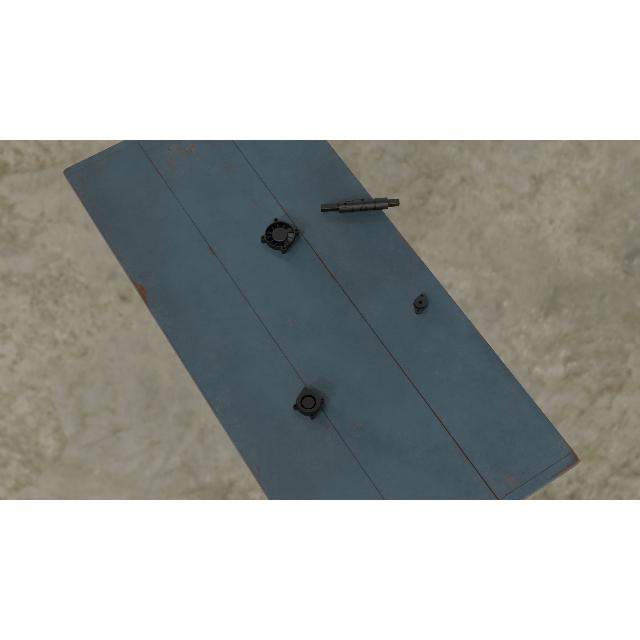Pieza1: (320, 194, 400, 216)
Pieza2: (411, 292, 429, 316)
Pieza3: (292, 386, 326, 422)
Pieza4: (260, 217, 300, 256)
